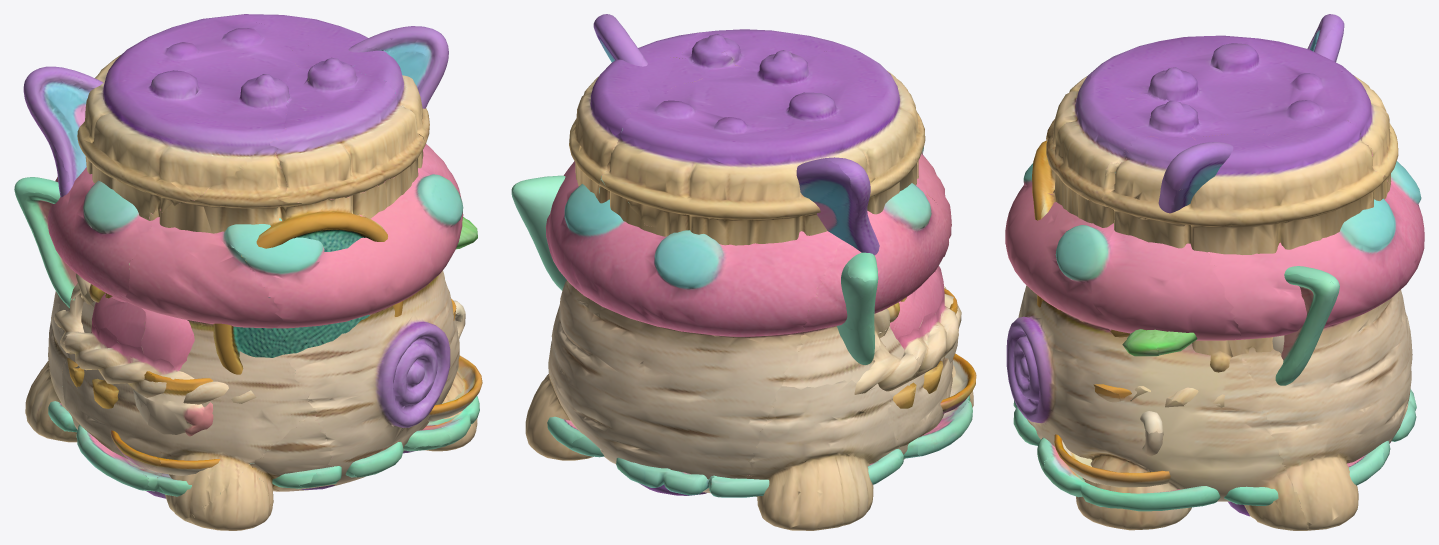
File: store_items_sheet_13_mobile.glb
The picture shows the model from 3 angles, left to right: view 1: azimuth 30°, elevation 25°; view 2: azimuth 150°, elevation 25°; view 3: azimuth 270°, elevation 25°; orthographic projection.
Parts seen in each view (by area): view 1: mush_stool, bamboo_speaker, mom_tea, fruit_basket, butterfly_model, hall_mask; view 2: mush_stool, bamboo_speaker, mom_tea, fruit_basket, butterfly_model, hall_mask; view 3: mush_stool, bamboo_speaker, mom_tea, butterfly_model, hall_mask, fruit_basket.
Boxes of the visible parts, bbox=[...] form: mush_stool: bbox=[25, 101, 477, 530]; bamboo_speaker: bbox=[77, 14, 429, 476]; mom_tea: bbox=[48, 298, 482, 498]; fruit_basket: bbox=[54, 217, 477, 450]; butterfly_model: bbox=[23, 26, 448, 197]; hall_mask: bbox=[14, 177, 77, 308]; mush_stool: bbox=[525, 128, 973, 530]; bamboo_speaker: bbox=[569, 29, 930, 351]; mom_tea: bbox=[547, 288, 976, 497]; fruit_basket: bbox=[756, 266, 961, 496]; butterfly_model: bbox=[593, 14, 879, 255]; hall_mask: bbox=[511, 175, 878, 365]; mush_stool: bbox=[1005, 136, 1424, 530]; bamboo_speaker: bbox=[1032, 35, 1398, 516]; mom_tea: bbox=[1013, 335, 1416, 511]; butterfly_model: bbox=[1158, 14, 1344, 213]; hall_mask: bbox=[1275, 266, 1339, 385]; fruit_basket: bbox=[1122, 329, 1224, 407].
Bounding box in the file's own units: 1.55 × 1.55 × 1.55.
Materials: 1 (1 with a texture image).
